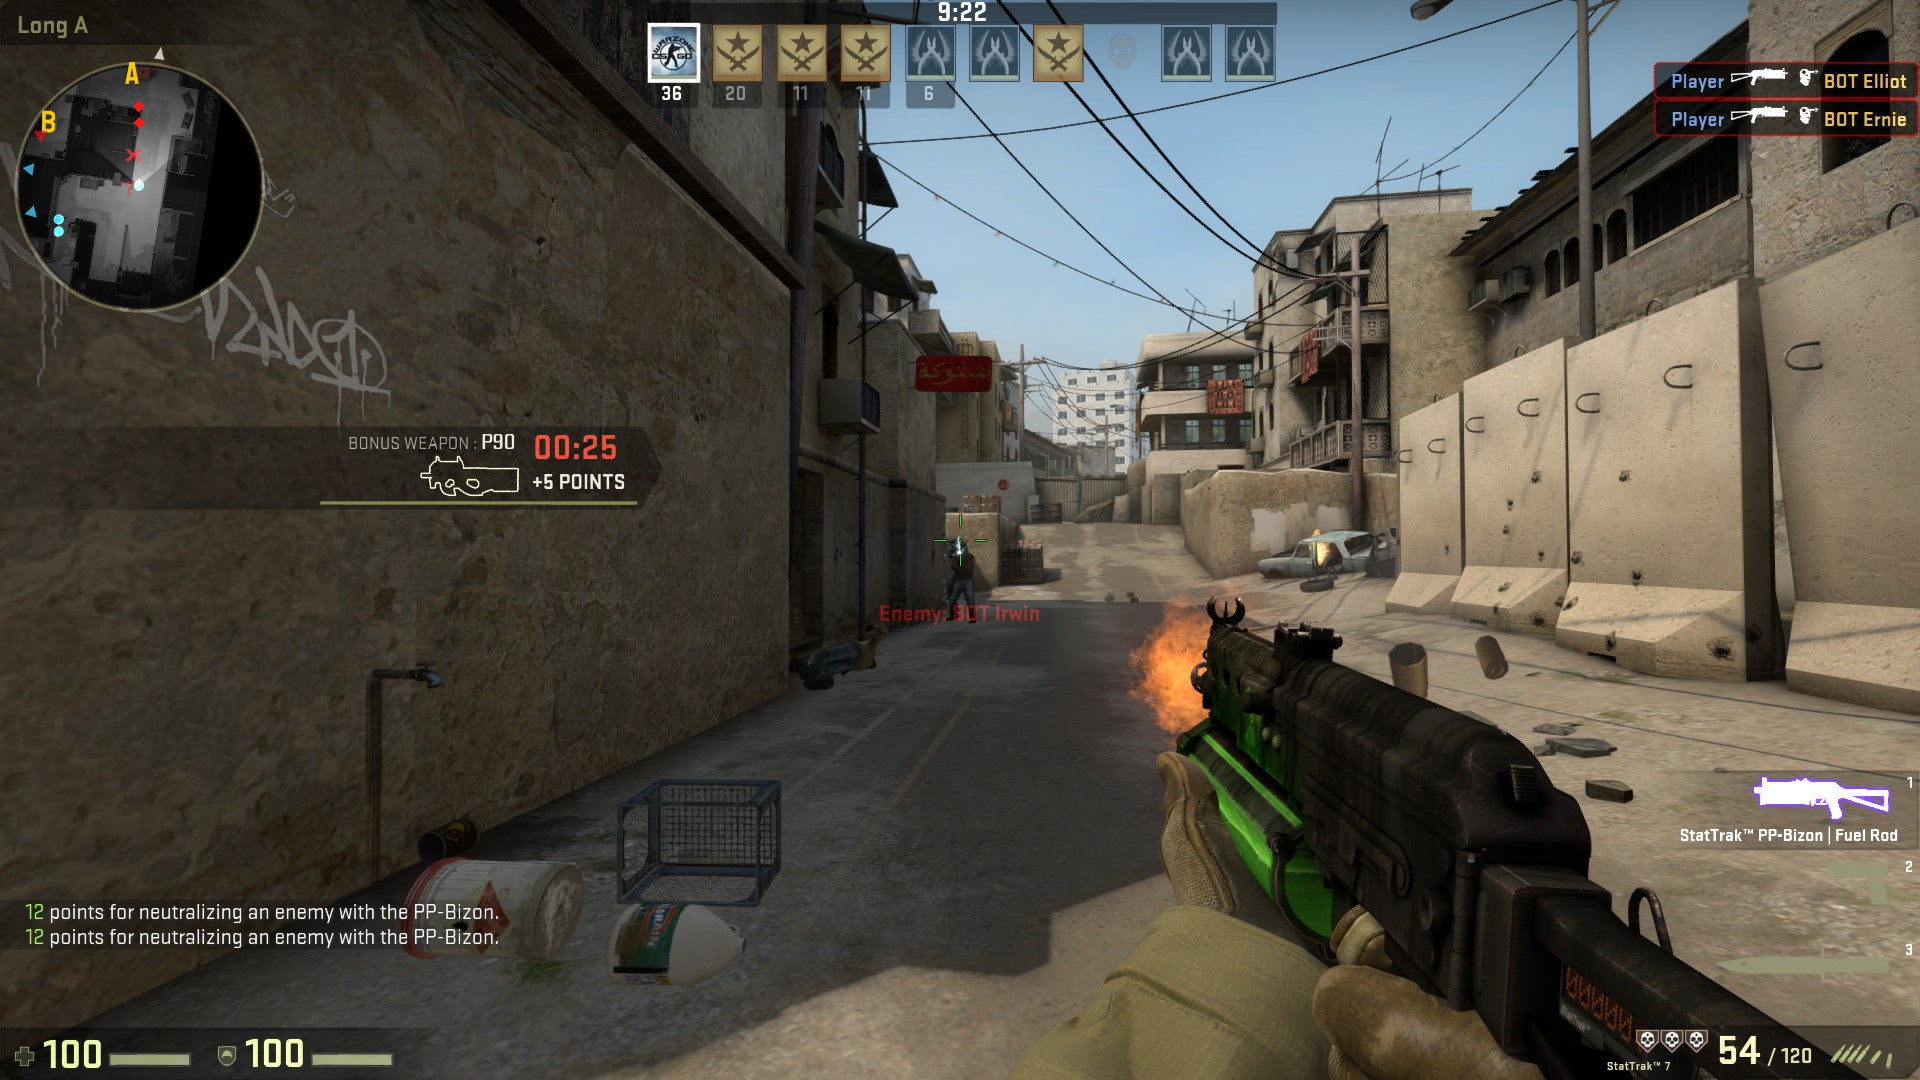t: (943, 538, 980, 626)
th: (945, 539, 973, 558)
